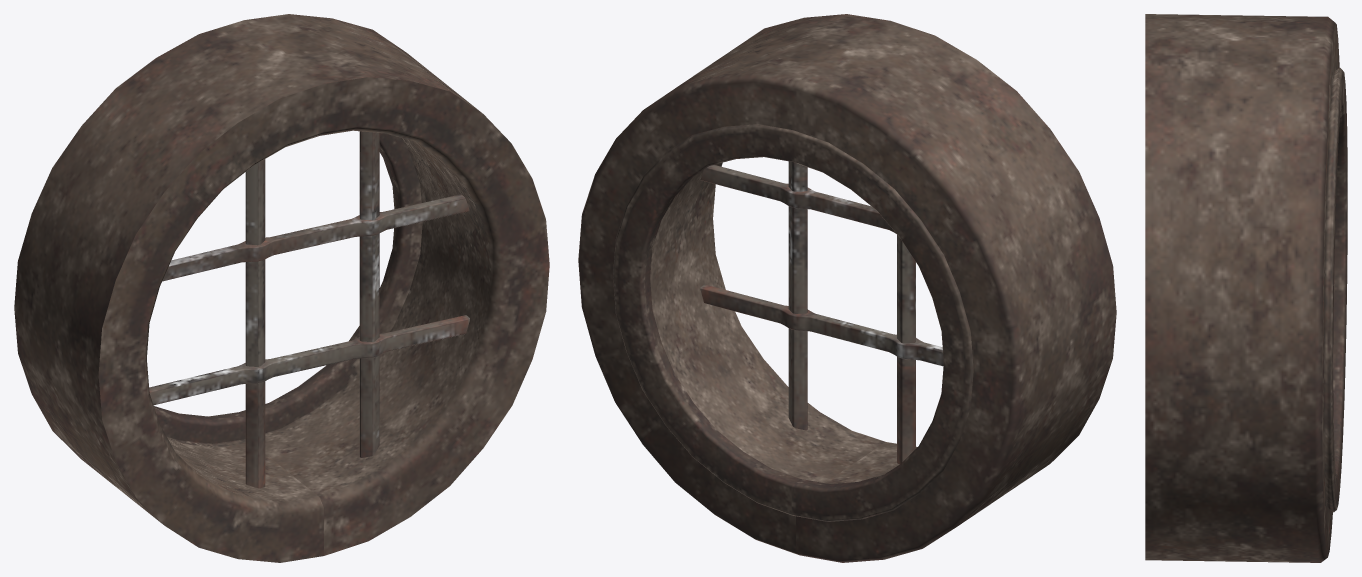
The model's file is SM_CryptWindow_01_01.fbx.
3 renders of one model, left to right at view 1: azimuth 30°, elevation 25°; view 2: azimuth 150°, elevation 25°; view 3: azimuth 270°, elevation 25°, orthographic. The views are drawn at different scales.
Parts seen in each view (by area): view 1: sm_CryptWindow_01_01_LOD0; view 2: sm_CryptWindow_01_01_LOD0; view 3: sm_CryptWindow_01_01_LOD0.
Boxes of the visible parts, x1,y1,x2,y2 form: sm_CryptWindow_01_01_LOD0: (14, 14, 549, 562); sm_CryptWindow_01_01_LOD0: (578, 14, 1116, 562); sm_CryptWindow_01_01_LOD0: (1145, 14, 1347, 562).
Bounding box in the file's own units: 22.36 × 61.05 × 60.34.
